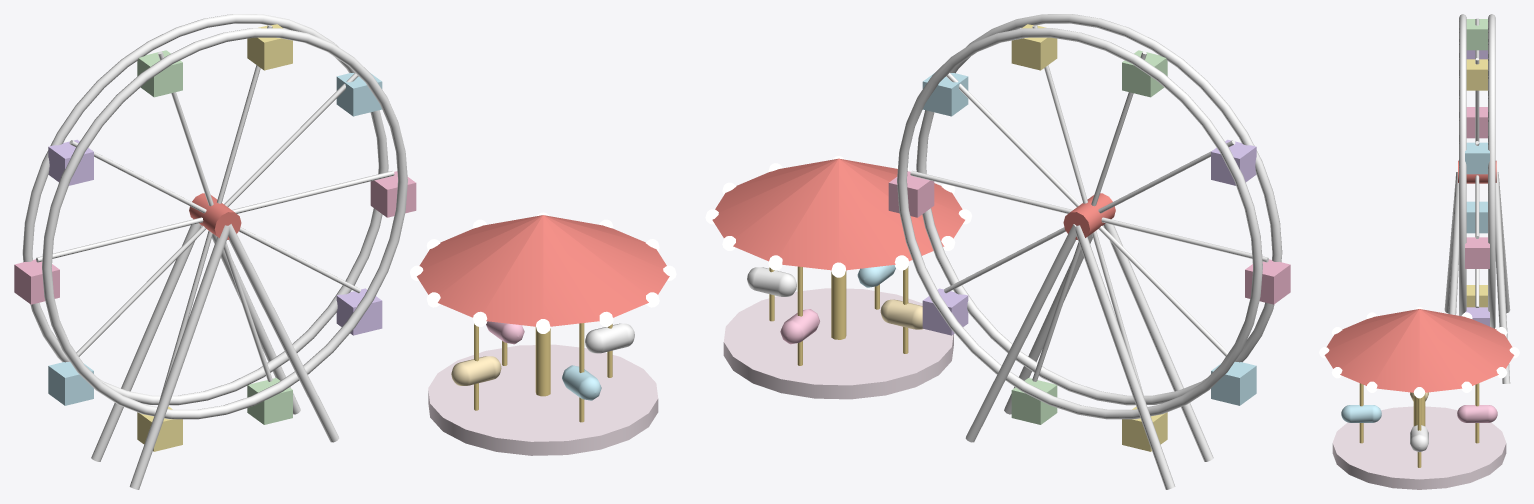
Rendered from wisata.glb.
The picture shows the model from 3 angles, left to right: view 1: azimuth 30°, elevation 25°; view 2: azimuth 150°, elevation 25°; view 3: azimuth 270°, elevation 25°; orthographic projection. The views are drawn at different scales.
Visible parts, largest first — view 1: wisata; view 2: wisata; view 3: wisata.
Part boxes in pixels (x1,y1,x2,y2): wisata: (14, 14, 676, 489); wisata: (705, 14, 1290, 489); wisata: (1319, 14, 1519, 489).
Bounding box in the file's own units: 5.37 × 3.66 × 2.08.
